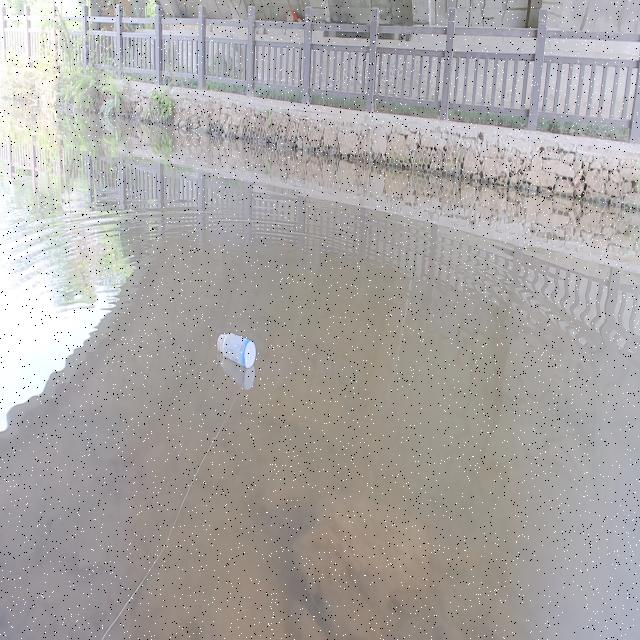Bottle: (215, 327, 258, 369)
